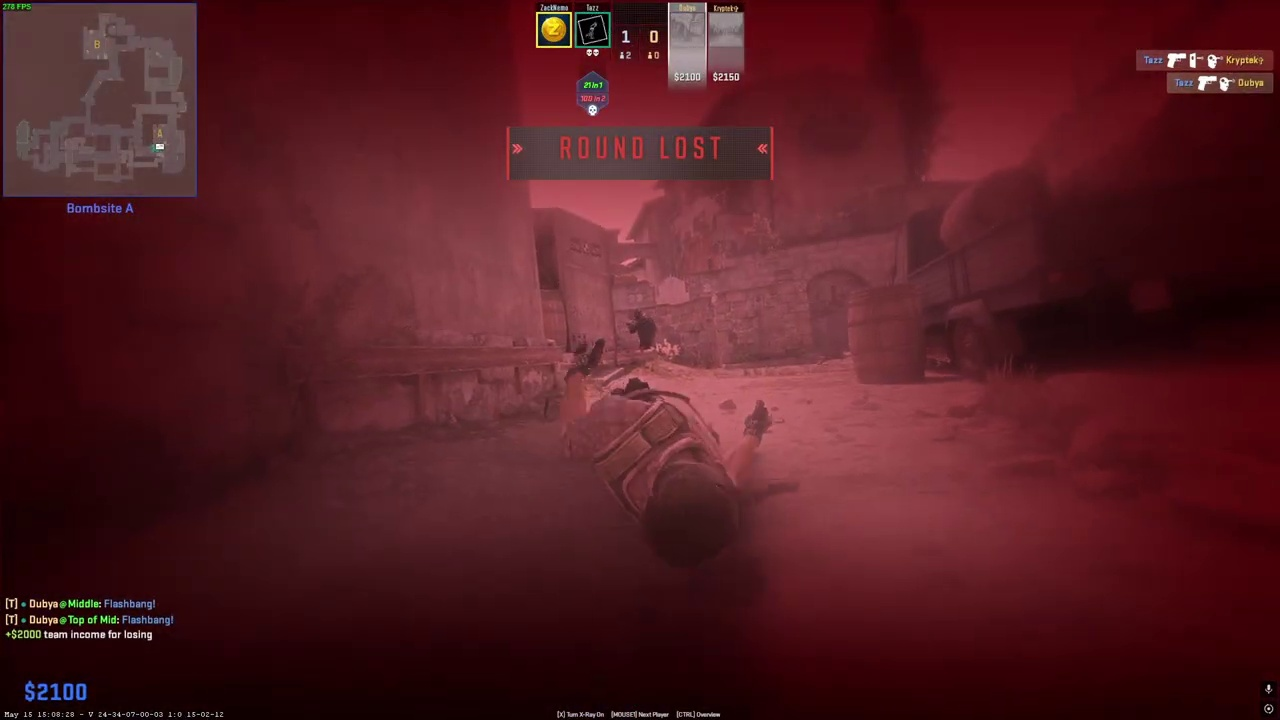CT: (632, 309, 657, 350)
